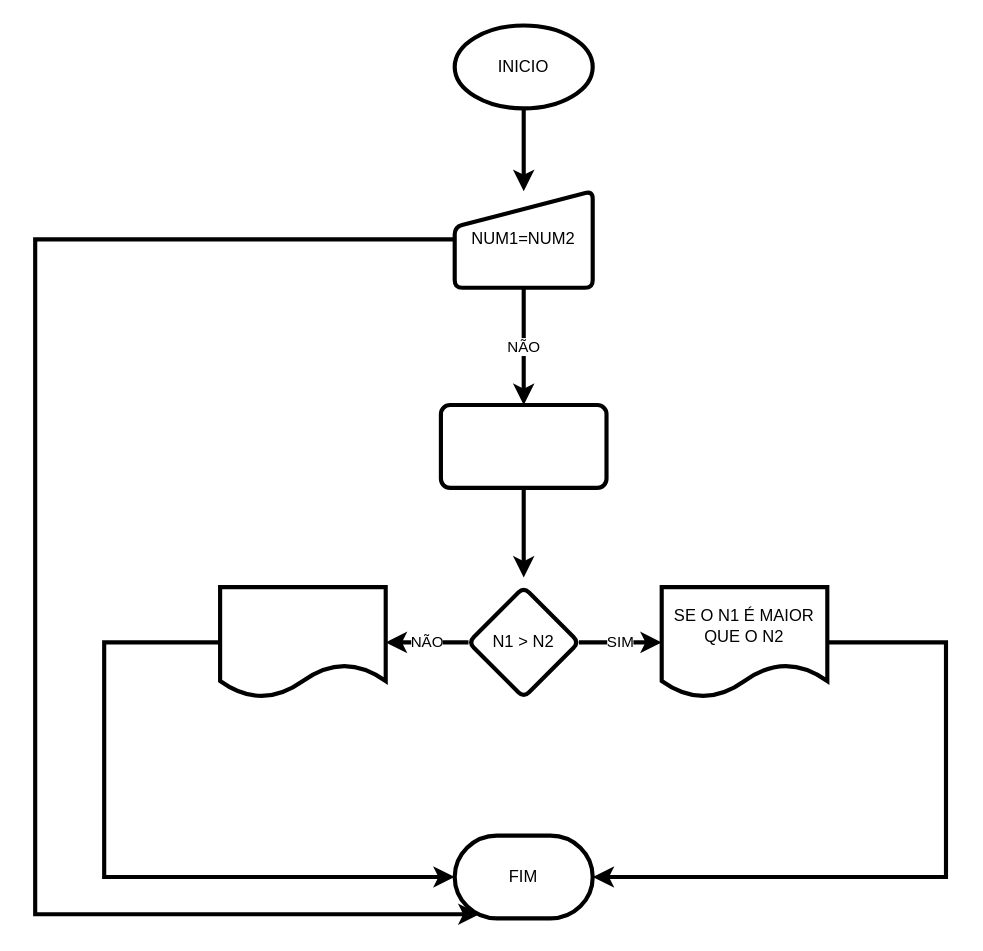
The diagram is 983 pixels wide and 951 high, and some of its shapes have lost their labels. The centre of each missing label's shape, as x and y in pixels:
NUM1 + NUM2: pixel 523 445
SE O NUM2 É MAIOR QUE O N1: pixel 302 641
